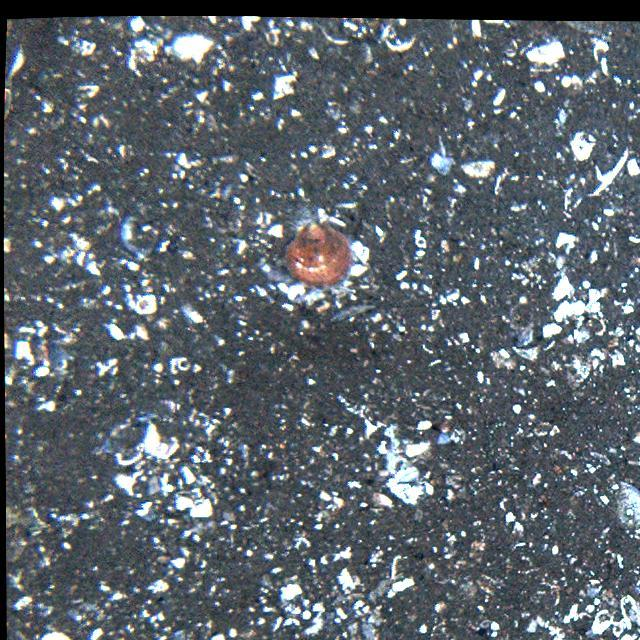scallop: (285, 218, 353, 291)
